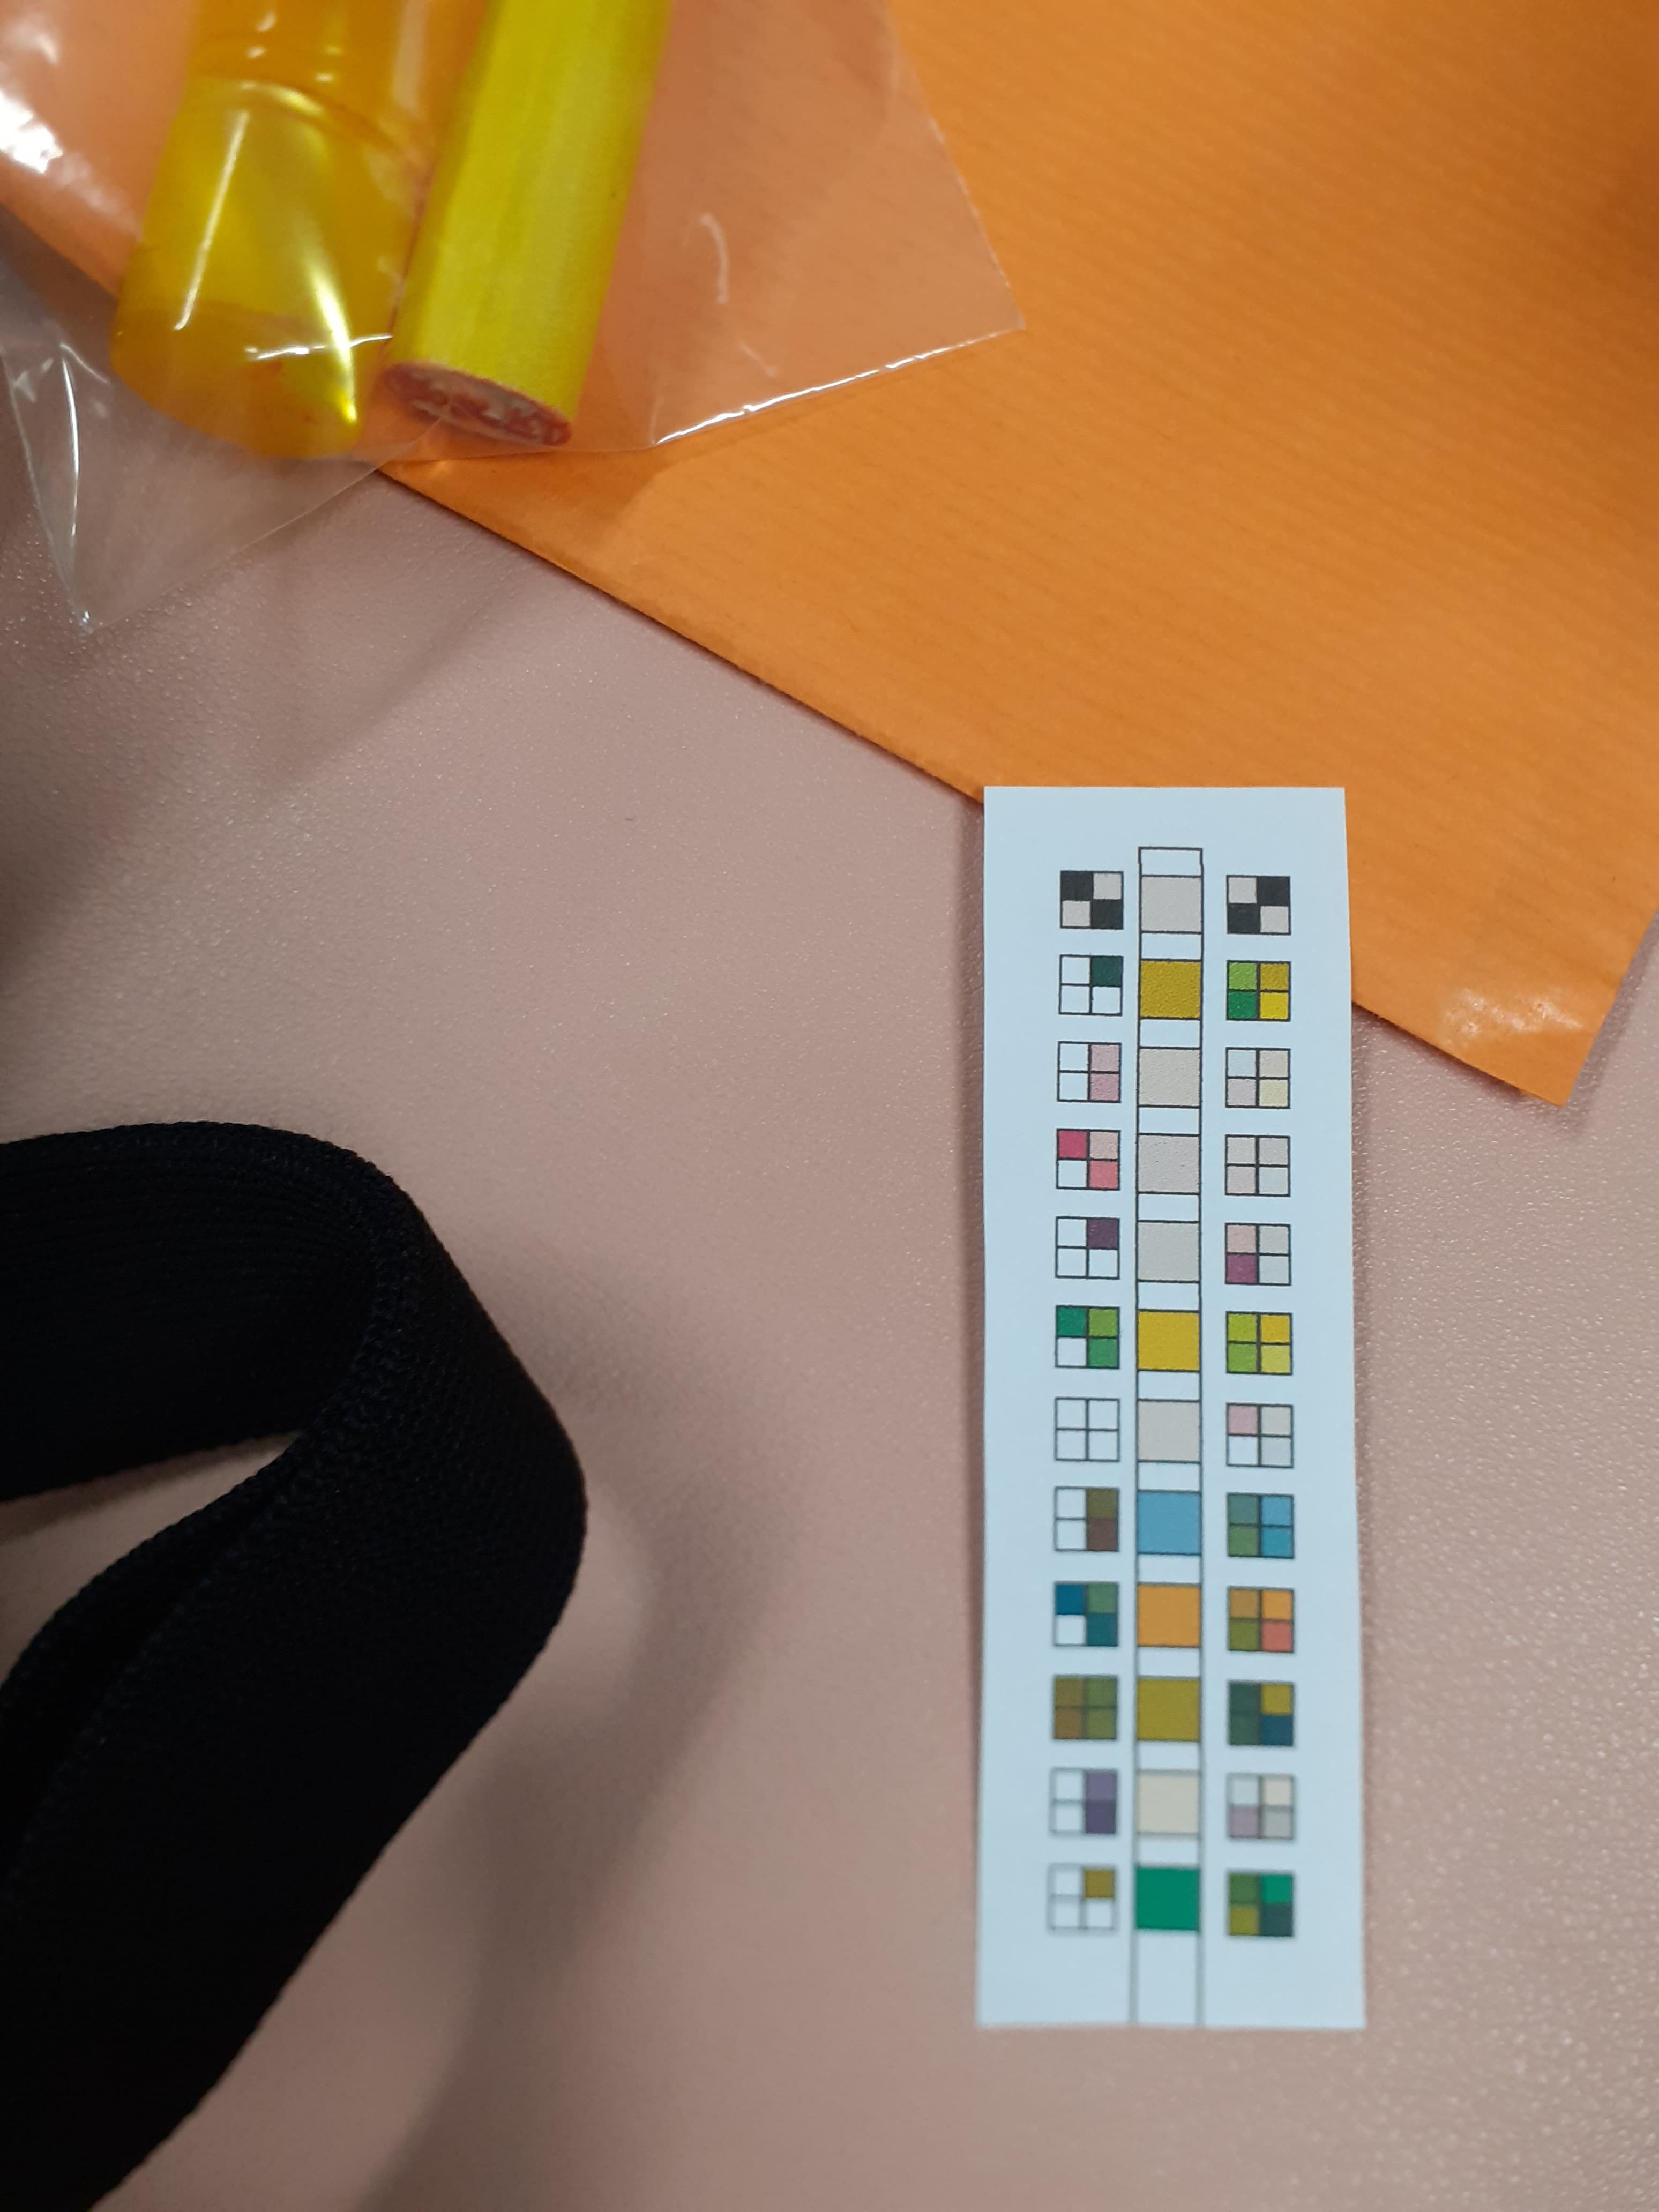tester: (978, 784, 1361, 2026)
